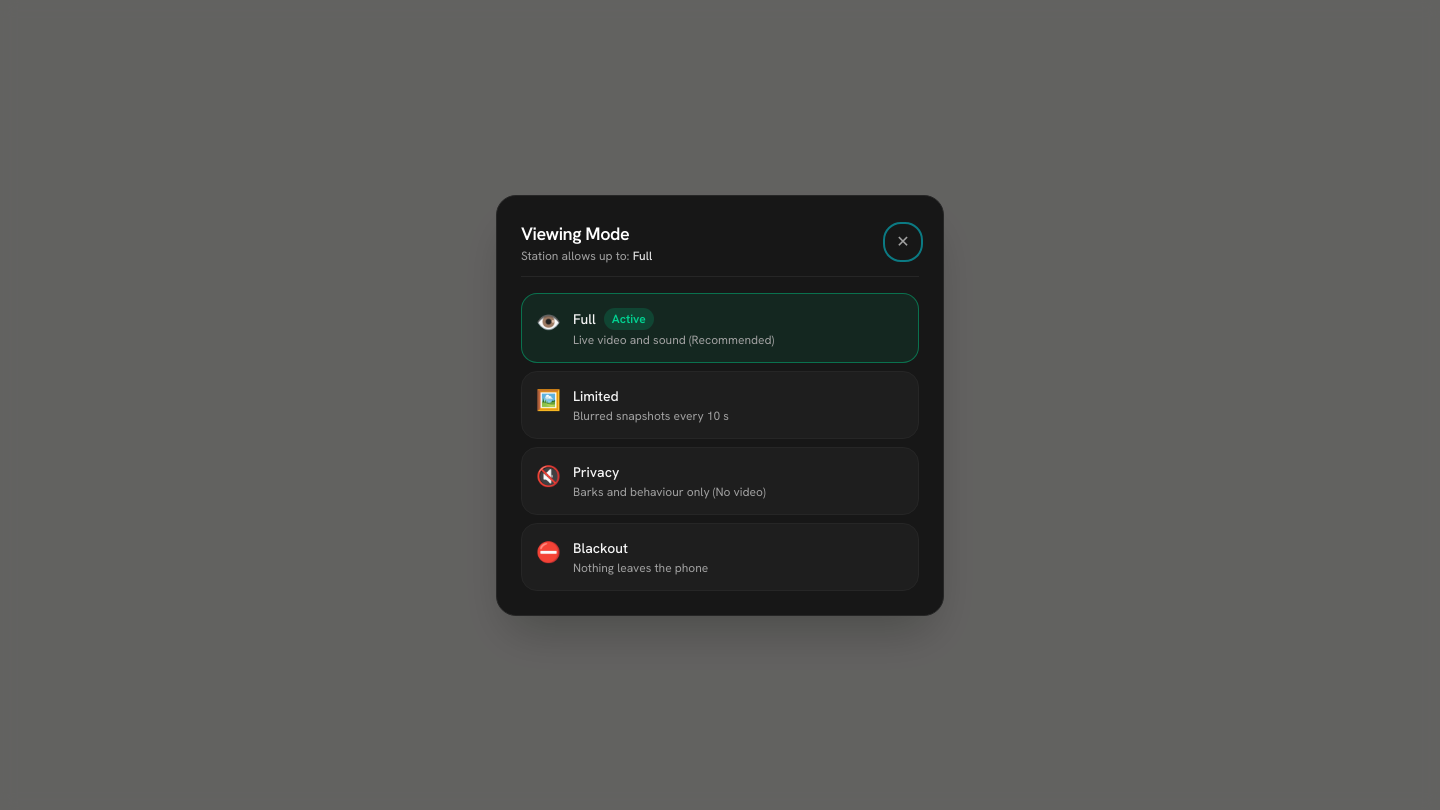
Test: ModeSheet request result › shows 'accepted' wording when the phone allows the raise
Click the button "🔇 Privacy Barks and behaviour only (No video)". click: (720, 480)
box: 521,446 -> 919,514
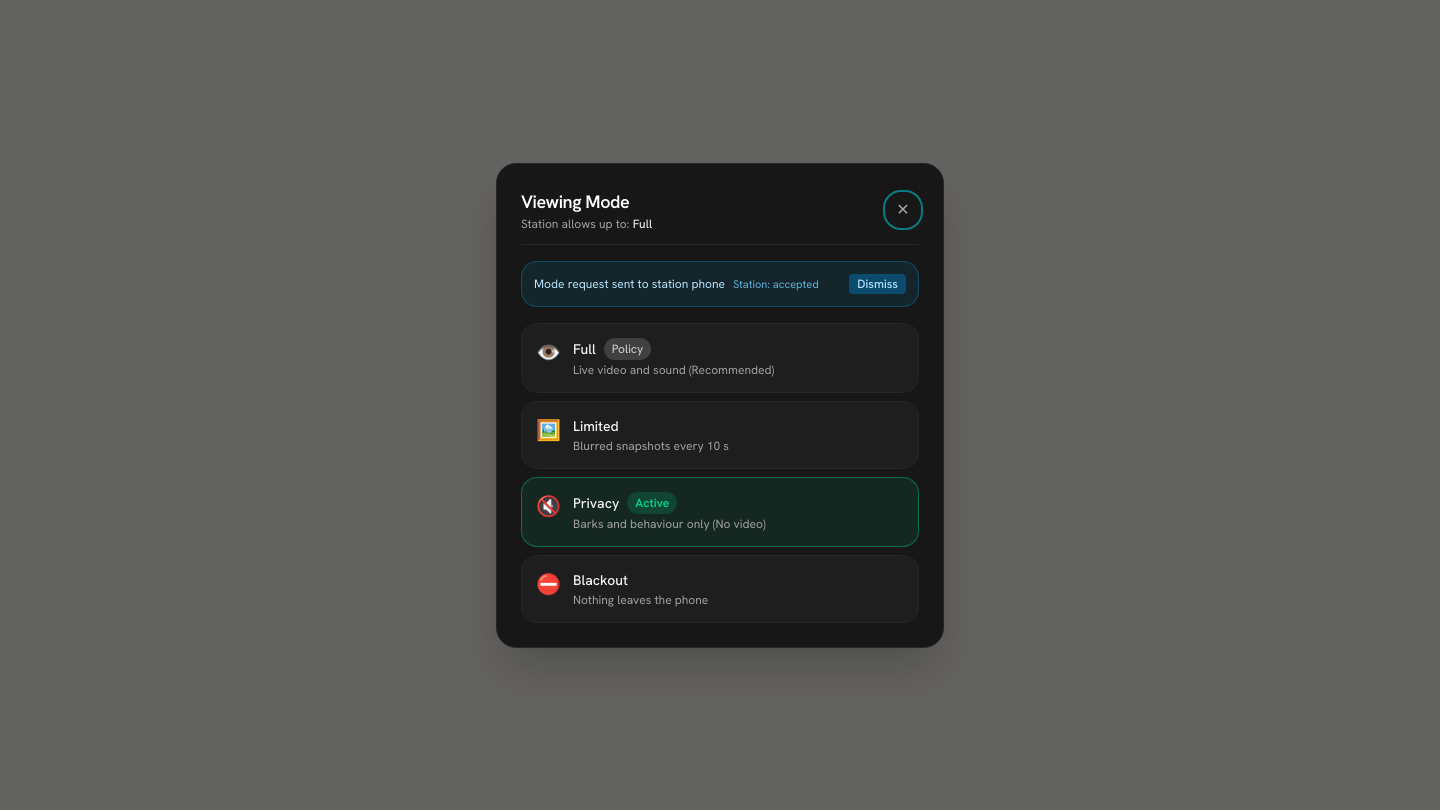
Result: the text "Station: accepted" is shown at 733,276 -> 819,290
